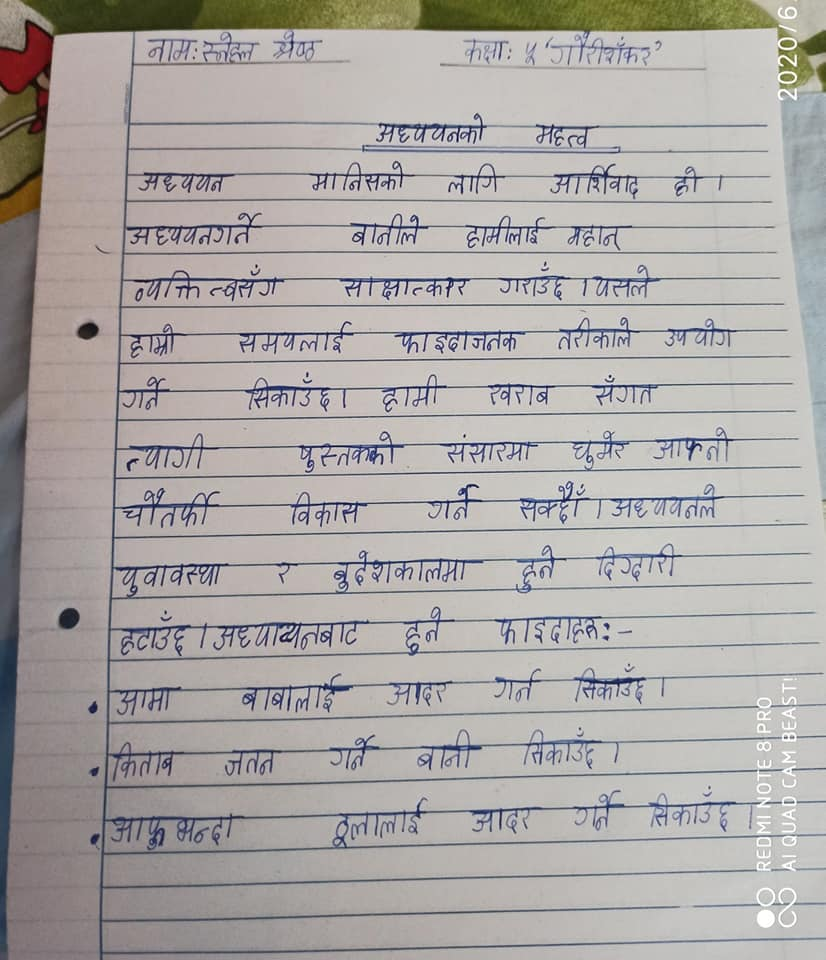text: (326, 549, 488, 591), (130, 264, 290, 305), (103, 813, 252, 853), (209, 617, 373, 652), (327, 796, 433, 848), (235, 671, 354, 715), (124, 211, 267, 247), (291, 430, 405, 474), (647, 784, 740, 836), (235, 318, 357, 357), (118, 487, 226, 531), (391, 324, 530, 358), (115, 428, 215, 475), (515, 724, 608, 772), (334, 273, 476, 304), (113, 560, 232, 596), (483, 612, 602, 648), (307, 157, 413, 197), (610, 484, 724, 521), (113, 607, 195, 657), (591, 541, 687, 583), (243, 371, 335, 414), (105, 740, 191, 785), (649, 425, 737, 468), (550, 32, 654, 68), (282, 489, 373, 529), (569, 663, 651, 707), (463, 213, 553, 253), (341, 212, 430, 252), (496, 261, 574, 306), (374, 114, 490, 144), (549, 163, 642, 200), (414, 726, 485, 774), (516, 481, 593, 524), (441, 432, 543, 463), (112, 682, 187, 723), (552, 316, 641, 350), (512, 543, 571, 594), (585, 372, 665, 409), (133, 168, 238, 196), (374, 373, 447, 413), (316, 734, 391, 772), (663, 316, 742, 352), (565, 430, 634, 471), (399, 605, 455, 654), (466, 803, 543, 838), (125, 320, 186, 363), (561, 218, 634, 253), (218, 745, 290, 780), (484, 375, 558, 409), (590, 263, 661, 298), (568, 788, 623, 832), (424, 483, 483, 524), (441, 161, 506, 197), (117, 374, 175, 413), (377, 678, 452, 708), (488, 667, 547, 703), (200, 31, 259, 65), (530, 120, 598, 146), (271, 30, 323, 61), (140, 35, 194, 63), (667, 163, 706, 201), (456, 37, 508, 63), (269, 557, 301, 588), (522, 41, 539, 67)
